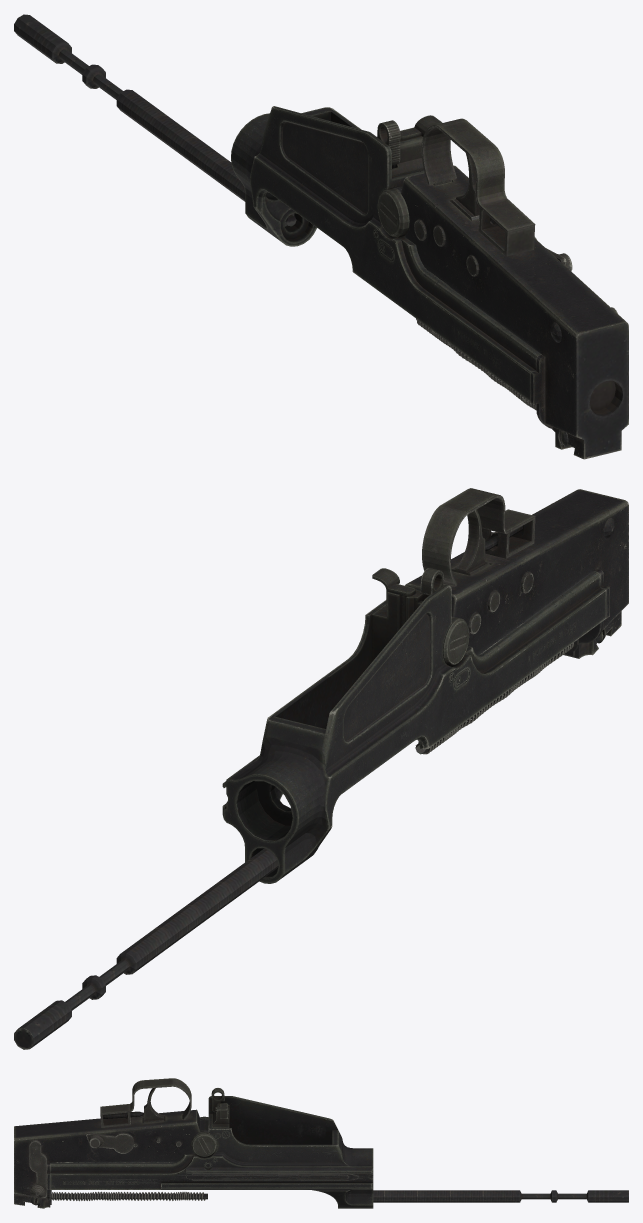
3 renders of one model, top to bottom at view 1: azimuth 30°, elevation 25°; view 2: azimuth 150°, elevation 25°; view 3: azimuth 270°, elevation 25°, orthographic. The views are drawn at different scales.
Parts seen in each view (by area): view 1: TW_5b0bbe4e5acfc40dc528a72d_PZ_Import; view 2: TW_5b0bbe4e5acfc40dc528a72d_PZ_Import; view 3: TW_5b0bbe4e5acfc40dc528a72d_PZ_Import.
Boxes of the visible parts, x1,y1,x2,y2 form: TW_5b0bbe4e5acfc40dc528a72d_PZ_Import: (14, 14, 628, 459); TW_5b0bbe4e5acfc40dc528a72d_PZ_Import: (14, 488, 628, 1049); TW_5b0bbe4e5acfc40dc528a72d_PZ_Import: (14, 1078, 628, 1208).
Size of the model in its own units: 0.0219 by 0.2695 by 0.0607.
Materials: 1 (1 with a texture image).
